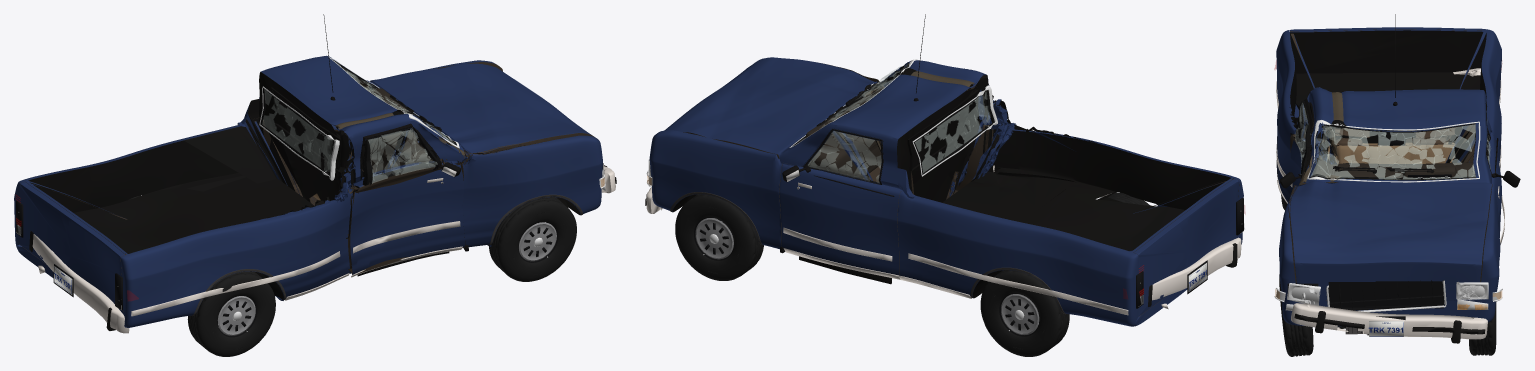
File: pickup87_side_R_d1_lod1.glb
3 views of the same model, side by side, from view 1: azimuth 30°, elevation 25°; view 2: azimuth 150°, elevation 25°; view 3: azimuth 270°, elevation 25° (orthographic). The views are drawn at different scales.
Parts seen in each view (by area): view 1: Body, Hood, Door_FR, Wheel_FR_mesh, Tailgate, Wheel_RR_mesh, Glass, Glass_FR, Trim, Bumper_R, Interior, Trim_FR (+1 smaller); view 2: Body, Hood, Door_FL, Wheel_FL_mesh, Tailgate, Wheel_RL_mesh, Glass, Trim, Trim_FL, Interior, Glass_FL, Bumper_R (+1 smaller); view 3: Body, Hood, Glass, Ends, Interior, Bumper_F, Wheel_FR_mesh, Door_FR, Trim, Glass_FR, Door_FL, Wheel_FL_mesh (+4 smaller).
Boxes of the visible parts, x1=… form: Body: x1=14, y1=55, x2=602, y2=327; Hood: x1=370, y1=63, x2=597, y2=158; Door_FR: x1=346, y1=123, x2=465, y2=276; Wheel_FR_mesh: x1=489, y1=197, x2=576, y2=281; Tailgate: x1=19, y1=181, x2=125, y2=313; Wheel_RR_mesh: x1=187, y1=271, x2=275, y2=356; Glass: x1=259, y1=57, x2=459, y2=180; Glass_FR: x1=362, y1=126, x2=441, y2=185; Trim: x1=131, y1=14, x2=583, y2=316; Bumper_R: x1=29, y1=231, x2=129, y2=333; Interior: x1=313, y1=88, x2=432, y2=200; Trim_FR: x1=351, y1=126, x2=462, y2=277; Body: x1=649, y1=58, x2=1243, y2=326; Hood: x1=664, y1=57, x2=877, y2=158; Door_FL: x1=779, y1=128, x2=901, y2=275; Wheel_FL_mesh: x1=675, y1=194, x2=763, y2=280; Tailgate: x1=1134, y1=178, x2=1239, y2=316; Wheel_RL_mesh: x1=980, y1=270, x2=1069, y2=356; Glass: x1=789, y1=59, x2=997, y2=176; Trim: x1=670, y1=14, x2=1158, y2=315; Trim_FL: x1=782, y1=129, x2=900, y2=284; Interior: x1=805, y1=87, x2=883, y2=182; Glass_FL: x1=807, y1=129, x2=883, y2=184; Bumper_R: x1=1148, y1=237, x2=1241, y2=306; Body: x1=1276, y1=29, x2=1501, y2=326; Hood: x1=1290, y1=180, x2=1492, y2=301; Glass: x1=1307, y1=120, x2=1480, y2=182; Ends: x1=1274, y1=280, x2=1502, y2=336; Interior: x1=1312, y1=127, x2=1475, y2=178; Bumper_F: x1=1291, y1=303, x2=1487, y2=343; Wheel_FR_mesh: x1=1279, y1=274, x2=1313, y2=356; Door_FR: x1=1290, y1=98, x2=1313, y2=190; Trim: x1=1276, y1=14, x2=1501, y2=203; Glass_FR: x1=1295, y1=101, x2=1311, y2=177; Door_FL: x1=1485, y1=101, x2=1501, y2=237; Wheel_FL_mesh: x1=1469, y1=302, x2=1496, y2=355.
Size of the model in its own units: 5.02 by 2.51 by 2.13.
34 materials, 5 textured.
